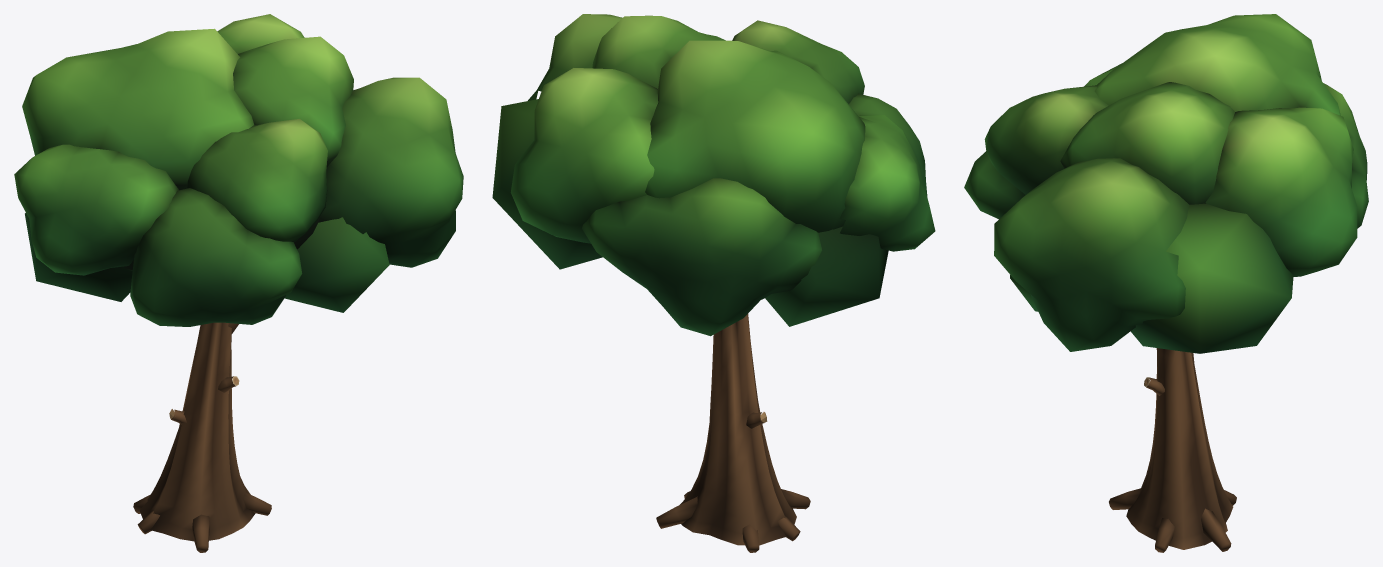
The model's file is tree-standing-c-v3.glb.
3 views of the same model, side by side, from view 1: azimuth 30°, elevation 25°; view 2: azimuth 150°, elevation 25°; view 3: azimuth 270°, elevation 25° (orthographic). The views are drawn at different scales.
Visible parts, largest first — view 1: 1_leaves, 0_trunk; view 2: 1_leaves, 0_trunk; view 3: 1_leaves, 0_trunk.
Boxes of the visible parts, bbox=[...] form: 1_leaves: bbox=[14, 14, 463, 326]; 0_trunk: bbox=[133, 322, 271, 552]; 1_leaves: bbox=[492, 14, 935, 336]; 0_trunk: bbox=[656, 313, 810, 552]; 1_leaves: bbox=[964, 14, 1368, 353]; 0_trunk: bbox=[1109, 348, 1236, 552].
Size of the model in its own units: 5.34 by 6.12 by 4.63.
